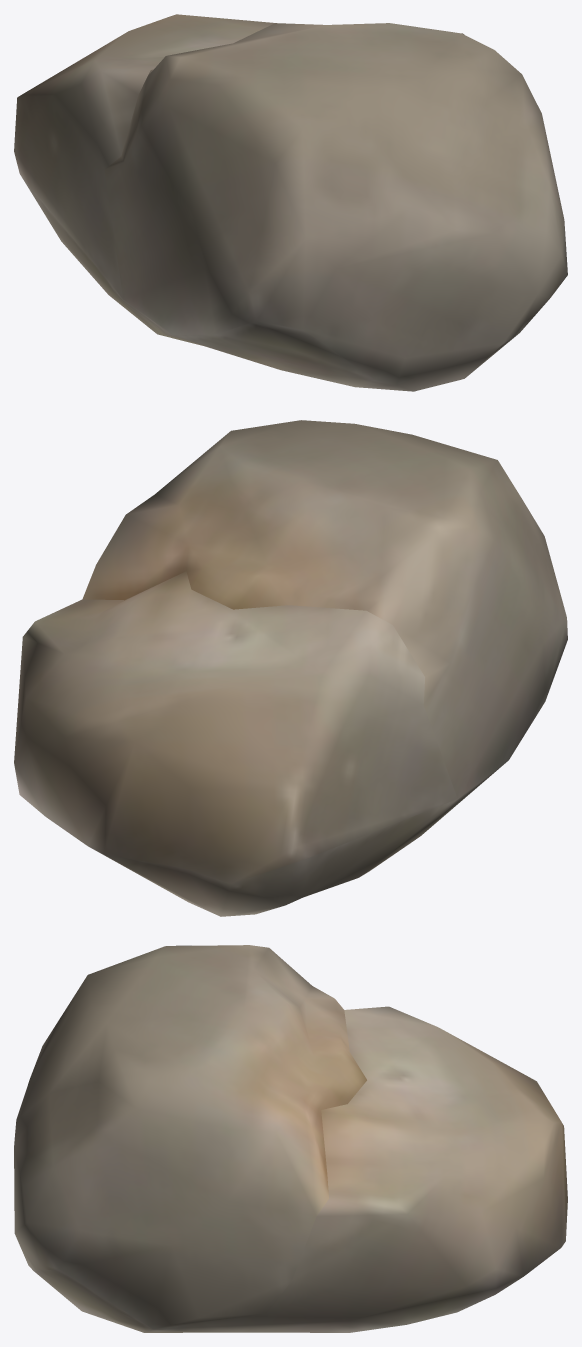
The picture shows the model from 3 angles, top to bottom: view 1: azimuth 30°, elevation 25°; view 2: azimuth 150°, elevation 25°; view 3: azimuth 270°, elevation 25°; orthographic projection. The views are drawn at different scales.
Parts seen in each view (by area): view 1: SM_Limestone_Boulder_01_LOD0; view 2: SM_Limestone_Boulder_01_LOD0; view 3: SM_Limestone_Boulder_01_LOD0.
Part boxes in pixels (x1=…): SM_Limestone_Boulder_01_LOD0: x1=14, y1=14, x2=567, y2=391; SM_Limestone_Boulder_01_LOD0: x1=14, y1=420, x2=567, y2=916; SM_Limestone_Boulder_01_LOD0: x1=14, y1=945, x2=567, y2=1332.
Size of the model in its own units: 0.2432 by 0.204 by 0.3486.
